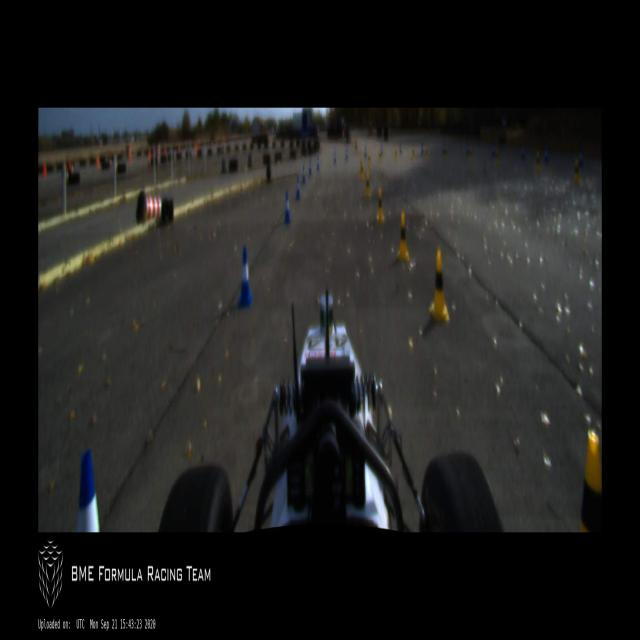blue_cone: (76, 448, 100, 532), (238, 246, 252, 308), (283, 192, 291, 223), (295, 175, 300, 200), (544, 147, 549, 162), (302, 164, 305, 184), (521, 146, 525, 161), (316, 156, 320, 170), (363, 146, 367, 160), (580, 150, 583, 168), (309, 158, 312, 175), (345, 147, 348, 164), (421, 143, 424, 157), (466, 144, 469, 158), (492, 144, 495, 158), (399, 143, 402, 155), (442, 143, 444, 157), (334, 151, 336, 163), (381, 144, 383, 156)
yellow_cone: (576, 429, 602, 532), (428, 248, 451, 327), (396, 212, 410, 263), (375, 187, 385, 223), (574, 160, 580, 182), (365, 172, 370, 198), (360, 161, 364, 181), (536, 152, 540, 172), (495, 146, 499, 166), (468, 145, 472, 163), (411, 148, 415, 160), (424, 147, 428, 159), (445, 145, 447, 160), (368, 152, 370, 166), (379, 149, 381, 162), (355, 136, 357, 149), (395, 148, 397, 160)
